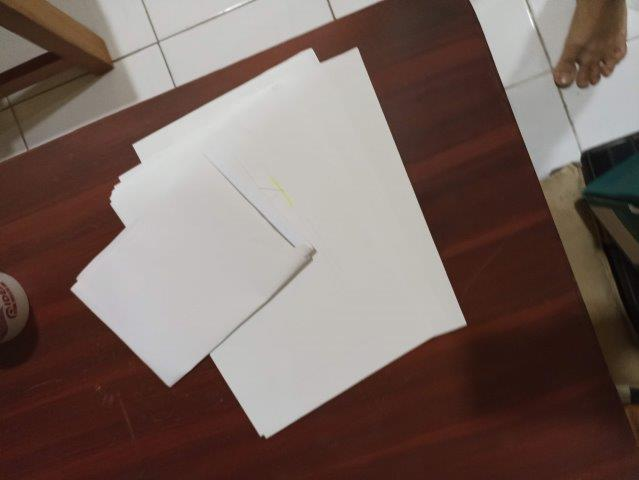kertas: (69, 47, 467, 438)
